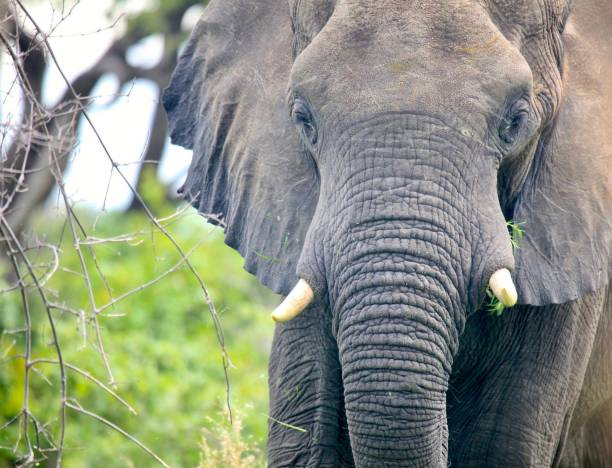africanelephant: (237, 18, 577, 415)
